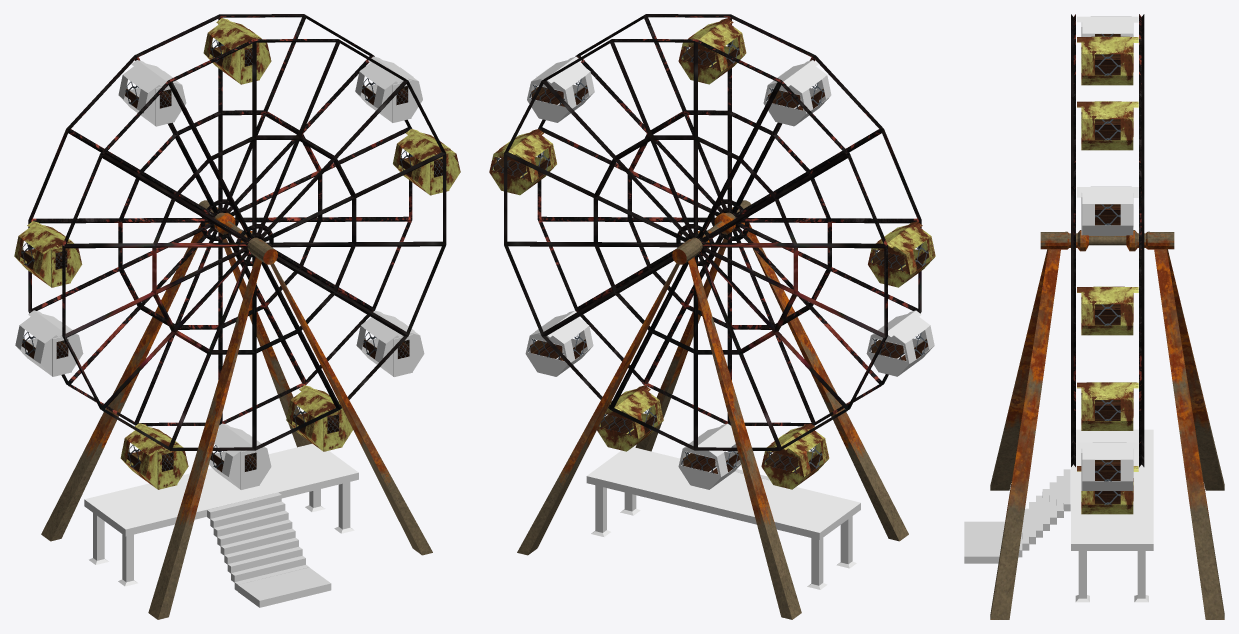
Rendered from RodaGigante.fbx.
3 views of the same model, side by side, from view 1: azimuth 30°, elevation 25°; view 2: azimuth 150°, elevation 25°; view 3: azimuth 270°, elevation 25° (orthographic).
Visible parts, largest first — view 1: RG, PernasDaRG, EscadaDaRG, ChaoDaPlaDaRG, PernasDaPlaDeRG, CabineDaRG.020, CabineDaRG.026, CabineDaRG.018, CabineDaRG.008, CabineDaRG.022, CabineDaRG.010, CabineDaRG.024 (+5 smaller); view 2: RG, PernasDaRG, ChaoDaPlaDaRG, CabineDaRG.026, PernasDaPlaDeRG, CabineDaRG.020, CabineDaRG.022, CabineDaRG.024, CabineDaRG.010, CabineDaRG.018, CabineDaRG.008, CabineDaRG (+3 smaller); view 3: PernasDaRG, ChaoDaPlaDaRG, RG, EscadaDaRG, CabineDaRG.020, CabineDaRG.010, CabineDaRG.018, CabineDaRG.008, CabineDaRG, CabineDaRG.022, CabineDaRG.024, PernasDaPlaDeRG (+8 smaller).
Boxes of the visible parts, x1=… form: RG: x1=28, y1=14, x2=446, y2=450; PernasDaRG: x1=41, y1=200, x2=432, y2=619; EscadaDaRG: x1=207, y1=492, x2=331, y2=607; ChaoDaPlaDaRG: x1=85, y1=443, x2=358, y2=529; PernasDaPlaDeRG: x1=89, y1=482, x2=354, y2=586; CabineDaRG.020: x1=14, y1=221, x2=82, y2=286; CabineDaRG.026: x1=15, y1=310, x2=83, y2=375; CabineDaRG.018: x1=203, y1=18, x2=271, y2=83; CabineDaRG.008: x1=393, y1=129, x2=460, y2=194; CabineDaRG.022: x1=120, y1=423, x2=188, y2=488; CabineDaRG.010: x1=355, y1=56, x2=422, y2=122; CabineDaRG.024: x1=118, y1=60, x2=186, y2=125; RG: x1=504, y1=14, x2=921, y2=450; PernasDaRG: x1=517, y1=200, x2=908, y2=619; ChaoDaPlaDaRG: x1=587, y1=447, x2=860, y2=532; CabineDaRG.026: x1=866, y1=310, x2=934, y2=376; PernasDaPlaDeRG: x1=591, y1=485, x2=856, y2=589; CabineDaRG.020: x1=868, y1=221, x2=935, y2=287; CabineDaRG.022: x1=761, y1=423, x2=829, y2=489; CabineDaRG.024: x1=763, y1=60, x2=831, y2=126; CabineDaRG.010: x1=527, y1=56, x2=594, y2=122; CabineDaRG.018: x1=678, y1=18, x2=746, y2=84; CabineDaRG.008: x1=489, y1=129, x2=556, y2=195; CabineDaRG: x1=525, y1=310, x2=593, y2=376; PernasDaRG: x1=990, y1=230, x2=1224, y2=619; ChaoDaPlaDaRG: x1=1071, y1=429, x2=1153, y2=543; RG: x1=1071, y1=14, x2=1144, y2=467; EscadaDaRG: x1=964, y1=469, x2=1070, y2=563; CabineDaRG.020: x1=1077, y1=101, x2=1138, y2=150; CabineDaRG.010: x1=1077, y1=186, x2=1138, y2=235; CabineDaRG.018: x1=1077, y1=36, x2=1138, y2=85; CabineDaRG.008: x1=1077, y1=286, x2=1138, y2=335; CabineDaRG: x1=1077, y1=442, x2=1138, y2=490; CabineDaRG.022: x1=1077, y1=382, x2=1138, y2=430; CabineDaRG.024: x1=1077, y1=16, x2=1138, y2=36; PernasDaPlaDeRG: x1=1075, y1=551, x2=1148, y2=602.
Bounding box in the file's own units: 1929 × 2250 × 1027.
Materials: 9 (5 with a texture image).
